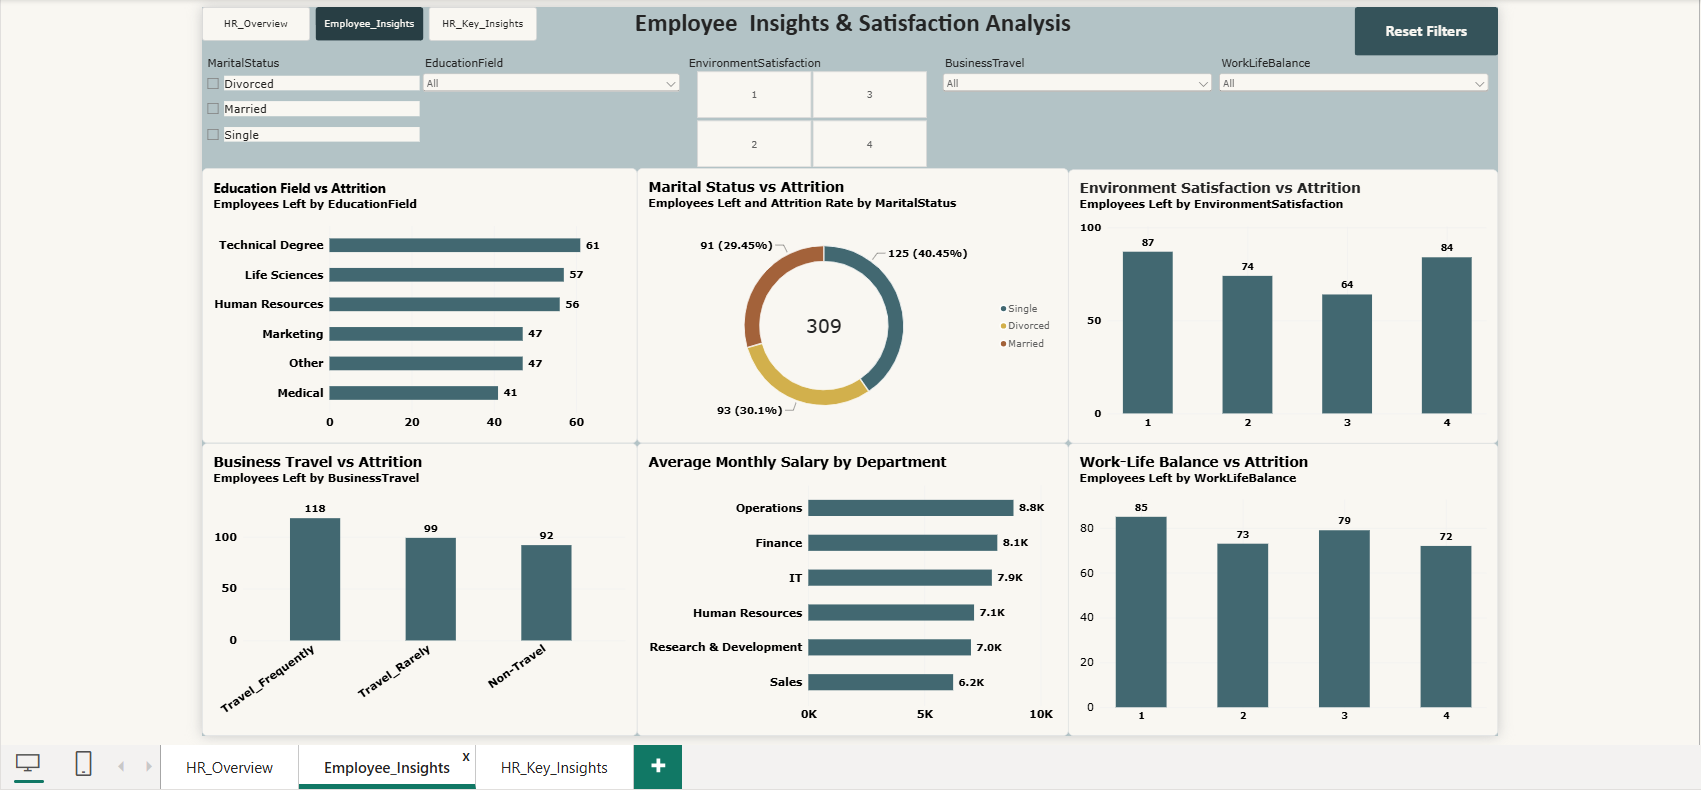

The page's visual inventory and layout, read from the dashboard file:
{"tool":"powerbi","page":{"name":"Employee_Insights","canvas":[1920,1080],"ordinal":1},"visuals":[{"type":"clusteredBarChart","title":"Education Field vs Attrition","fields":{"Category":["hr_analytics hr_employees_clean.EducationField"],"Y":["hr_analytics hr_employees_clean.Employees Left"]},"box":[0,238.9,644.4,407.4],"z":0},{"type":"clusteredColumnChart","title":"Business Travel vs Attrition","fields":{"Category":["hr_analytics hr_employees_clean.BusinessTravel"],"Y":["hr_analytics hr_employees_clean.Employees Left"]},"box":[0,646.3,644.4,433.3],"z":1},{"type":"clusteredBarChart","title":"Average Monthly Salary by Department","fields":{"Category":["hr_analytics hr_employees_clean.Department"],"Y":["Avg(hr_analytics hr_employees_clean.MonthlyIncome)"]},"box":[644.4,646.3,638.9,433.3],"z":2},{"type":"clusteredColumnChart","title":"Environment Satisfaction vs Attrition","fields":{"Category":["hr_analytics hr_employees_clean.EnvironmentSatisfaction"],"Y":["hr_analytics hr_employees_clean.Employees Left"]},"box":[1283.3,240.7,637,405.6],"z":3},{"type":"donutChart","title":"Marital Status vs Attrition","fields":{"Category":["hr_analytics hr_employees_clean.MaritalStatus"],"Y":["hr_analytics hr_employees_clean.Employees Left"]},"box":[644.4,238.9,638.9,407.4],"z":4},{"type":"clusteredColumnChart","title":"Work-Life Balance vs Attrition","fields":{"Category":["hr_analytics hr_employees_clean.WorkLifeBalance"],"Y":["hr_analytics hr_employees_clean.Employees Left"]},"box":[1283.3,646.3,637,433.3],"z":5},{"type":"slicer","fields":{"Values":["hr_analytics hr_employees_clean.EducationField"]},"box":[322.2,72.2,390.7,166.7],"z":6},{"type":"slicer","fields":{"Values":["hr_analytics hr_employees_clean.BusinessTravel"]},"box":[1092.6,72.2,409.3,166.7],"z":7},{"type":"slicer","fields":{"Values":["hr_analytics hr_employees_clean.MaritalStatus"]},"box":[0,72.2,322.2,166.7],"z":8},{"type":"slicer","fields":{"Values":["hr_analytics hr_employees_clean.EnvironmentSatisfaction"]},"box":[713,72.2,379.6,166.7],"z":9},{"type":"slicer","fields":{"Values":["hr_analytics hr_employees_clean.WorkLifeBalance"]},"box":[1501.9,72.2,409.3,166.7],"z":10},{"type":"textbox","box":[0,0,1920.4,72.2],"z":11},{"type":"actionButton","box":[1707.4,0,213,72.2],"z":12},{"type":"pageNavigator","box":[0,0,496.3,50],"z":13}]}

Visuals, with their boxes on the page's 1920x1080 design canvas (x1, y1, x2, y2). These are canvas units, not pixel positions in the 1701x790 screenshot, which may show the page scaled, cropped or inside an application window:
"Education Field vs Attrition" clusteredBarChart: 0,239,644,646
"Business Travel vs Attrition" clusteredColumnChart: 0,646,644,1080
"Average Monthly Salary by Department" clusteredBarChart: 644,646,1283,1080
"Environment Satisfaction vs Attrition" clusteredColumnChart: 1283,241,1920,646
"Marital Status vs Attrition" donutChart: 644,239,1283,646
"Work-Life Balance vs Attrition" clusteredColumnChart: 1283,646,1920,1080
slicer - hr_analytics hr_employees_clean.EducationField: 322,72,713,239
slicer - hr_analytics hr_employees_clean.BusinessTravel: 1093,72,1502,239
slicer - hr_analytics hr_employees_clean.MaritalStatus: 0,72,322,239
slicer - hr_analytics hr_employees_clean.EnvironmentSatisfaction: 713,72,1093,239
slicer - hr_analytics hr_employees_clean.WorkLifeBalance: 1502,72,1911,239
textbox: 0,0,1920,72
actionButton: 1707,0,1920,72
pageNavigator: 0,0,496,50
